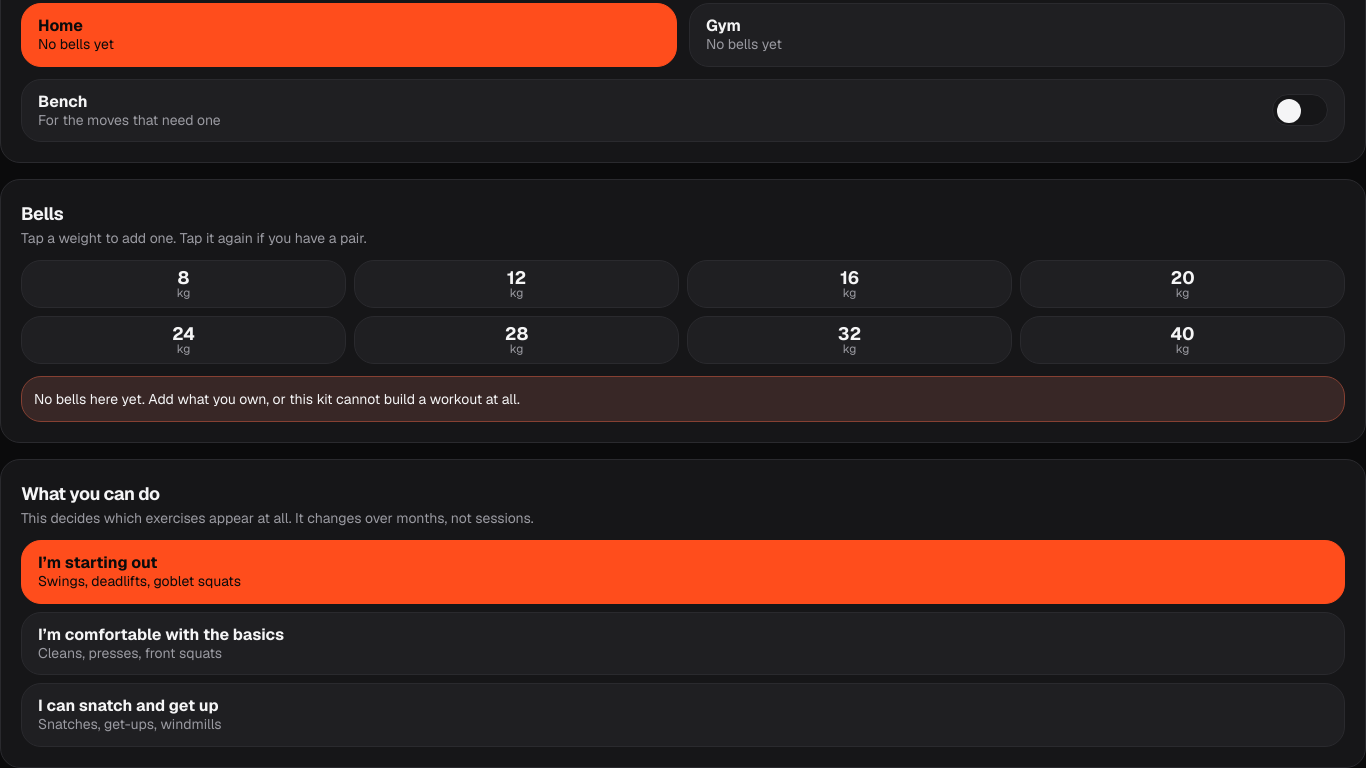
Test: KitEditor › offers the capability options as one exclusive radiogroup
(page scrolled)
Check: the radio button labelled "I’m starting out Swings, deadlifts, goblet squats" is checked, box [21,540,1345,604]
Click the radio button labelled "I can snatch and get up Snatches, get-ups, windmills". click: (128, 706)
box: [21,683,1345,746]
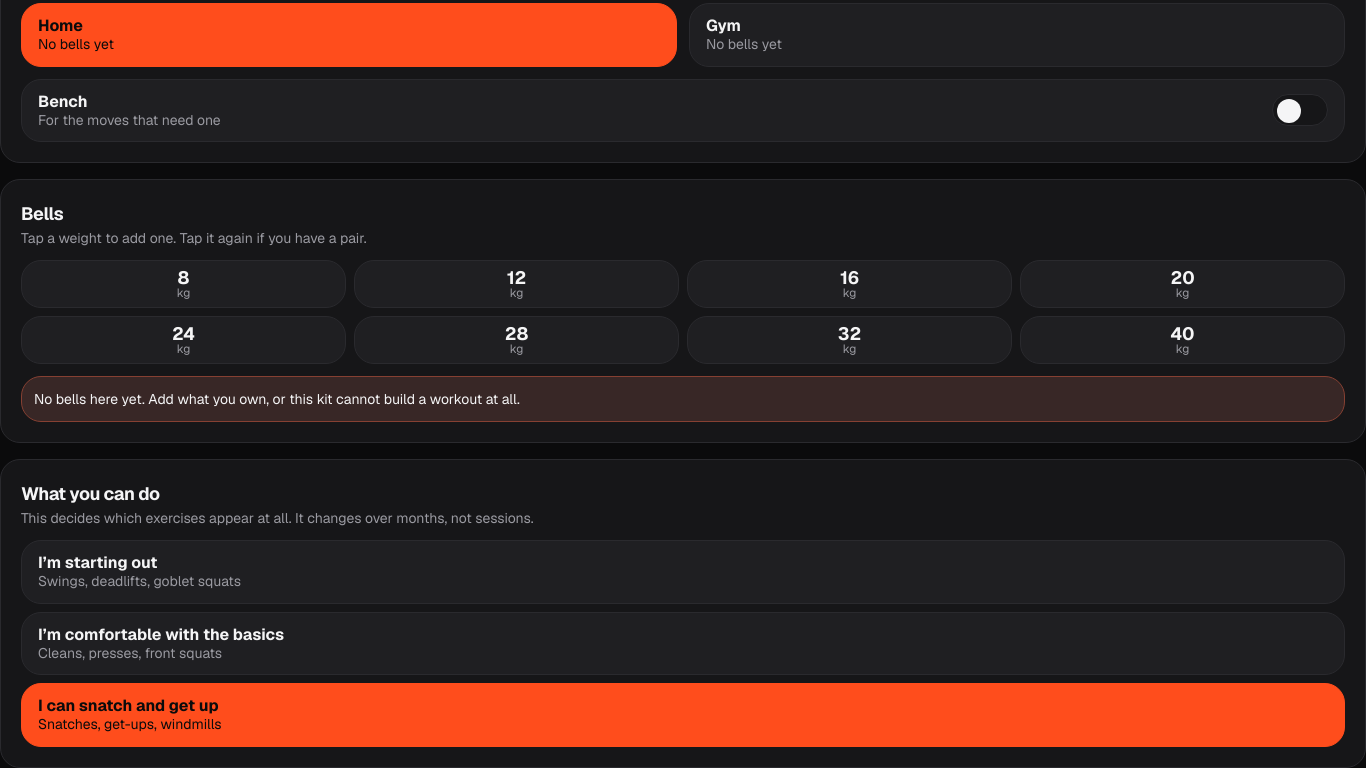
Check: the radio button labelled "I can snatch and get up Snatches, get-ups, windmills" is checked, box [21,683,1345,746]
Check: the radio button labelled "I’m starting out Swings, deadlifts, goblet squats" is not checked, box [21,540,1345,604]
